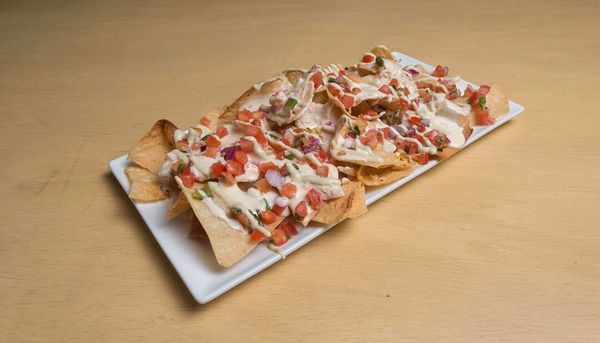curry: (4, 2, 591, 334)
sandwich: (126, 45, 514, 271)
